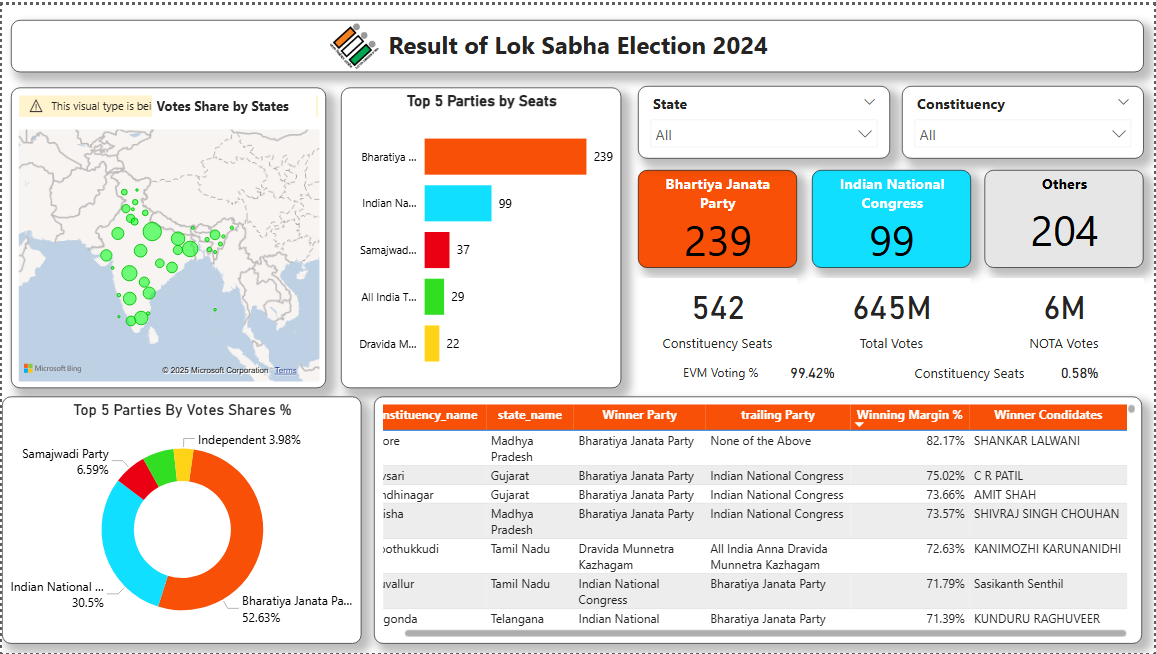

The dashboard page shown, as its layout file describes it:
{"tool":"powerbi","page":{"name":"Dashboard","canvas":[1280,720],"ordinal":1},"visuals":[{"type":"textbox","box":[9.7,16.2,1258.8,58.2],"z":0},{"type":"image","box":[359.2,19.4,63.1,51.8],"z":1000},{"type":"card","title":"Bhartiya Janata Party","fields":{"Values":["election_result_2024.BJP_Won Seat"]},"box":[707.1,182.8,176.4,108.4],"z":2000},{"type":"slicer","fields":{"Values":["election_result_2024.state_name"]},"box":[707.1,90.6,279.9,80.9],"z":3000},{"type":"slicer","fields":{"Values":["election_result_2024.constituency_name"]},"box":[999.9,90.6,268.6,80.9],"z":4000},{"type":"card","title":"Indian National Congress","fields":{"Values":["election_result_2024.Congress Won Seat"]},"box":[899.6,182.8,176.4,108.4],"z":5000},{"type":"card","title":"Others","fields":{"Values":["election_result_2024.Other Won Seat"]},"box":[1092.1,182.8,176.4,108.4],"z":6000},{"type":"card","fields":{"Values":["election_result_2024.Total Constituency"]},"box":[707.1,302.6,176.4,58.2],"z":7000},{"type":"textbox","box":[707.1,360.8,176.4,32.4],"z":8000},{"type":"card","fields":{"Values":["election_result_2024.Total Votes"]},"box":[899.6,302.6,176.4,58.2],"z":9000},{"type":"textbox","box":[899.6,360.8,176.4,32.4],"z":10000},{"type":"card","fields":{"Values":["election_result_2024.NOTA Votes"]},"box":[1092.1,302.6,176.4,58.2],"z":11000},{"type":"textbox","box":[1092.1,360.8,176.4,32.4],"z":12000},{"type":"textbox","box":[723.2,393.2,150.5,32.4],"z":13000},{"type":"card","fields":{"Values":["election_result_2024.%_EVM_Votes"]},"box":[843,393.2,113.3,32.4],"z":14000},{"type":"textbox","box":[987,393.2,176.4,32.4],"z":15000},{"type":"card","fields":{"Values":["election_result_2024.%_Postal_Votes"]},"box":[1147.1,393.2,100.3,32.4],"z":16000},{"type":"map","fields":{"Size":["election_result_2024.Total Votes"],"Category":["election_result_2024.state_name"]},"box":[9.6,91.1,350,334],"z":17000},{"type":"textbox","box":[166.2,97.5,182.2,33.6],"z":18000},{"type":"barChart","title":"Top 5 Parties by Seats","fields":{"Category":["election_result_2024.party_name"],"Y":["election_result_2024.Seats Wons"]},"box":[377.1,91.1,311.6,334],"z":19000},{"type":"donutChart","title":"Top 5 Parties By Votes Shares %","fields":{"Category":["election_result_2024.party_name"],"Y":["election_result_2024.Total Votes"]},"box":[0,434.7,399.5,274.9],"z":20000},{"type":"tableEx","fields":{"Values":["election_result_2024.constituency_name","election_result_2024.state_name","election_result_2024.Winner Party","election_result_2024.trailing Party","election_result_2024.Winning Margin %","election_result_2024.Winner Condidates"]},"box":[413.9,434.7,853.3,274.9],"z":21000}]}

Visuals, with their boxes in screenshot pixels (x1, y1, x2, y2), scaled from the page's 1280x720 canvas onto the 1156x654 screenshot:
textbox: 9/15/1146/68
image: 324/18/381/65
"Bhartiya Janata Party" card: 639/166/798/265
slicer - election_result_2024.state_name: 639/82/891/156
slicer - election_result_2024.constituency_name: 903/82/1146/156
"Indian National Congress" card: 812/166/972/265
"Others" card: 986/166/1146/265
card - election_result_2024.Total Constituency: 639/275/798/328
textbox: 639/328/798/357
card - election_result_2024.Total Votes: 812/275/972/328
textbox: 812/328/972/357
card - election_result_2024.NOTA Votes: 986/275/1146/328
textbox: 986/328/1146/357
textbox: 653/357/789/387
card - election_result_2024.%_EVM_Votes: 761/357/864/387
textbox: 891/357/1051/387
card - election_result_2024.%_Postal_Votes: 1036/357/1127/387
map - election_result_2024.Total Votes x election_result_2024.state_name: 9/83/325/386
textbox: 150/89/315/119
"Top 5 Parties by Seats" barChart: 341/83/622/386
"Top 5 Parties By Votes Shares %" donutChart: 0/395/361/645
tableEx - election_result_2024.constituency_name x election_result_2024.state_name: 374/395/1144/645
